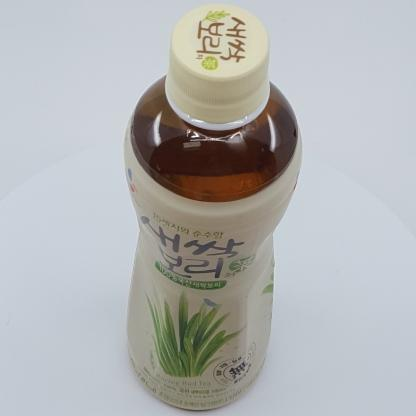CJ-----410ML: (124, 3, 302, 411)
